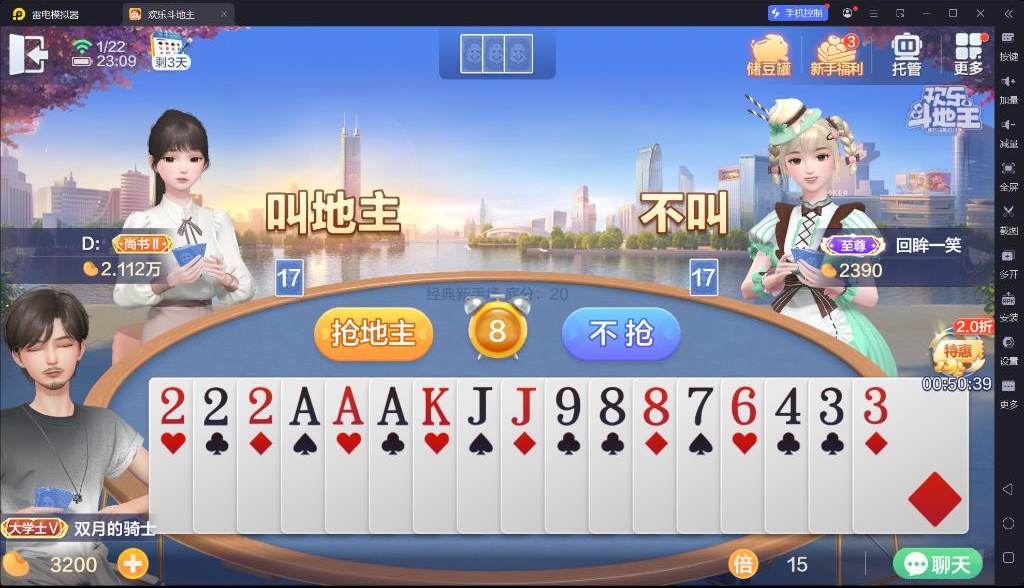A: (286, 382, 322, 428), (374, 382, 409, 428), (331, 382, 366, 428)
J: (461, 383, 495, 428), (507, 382, 539, 428)
K: (419, 382, 452, 428)
eight: (638, 384, 672, 428), (595, 383, 628, 428)
four: (771, 384, 804, 428)
nine: (551, 382, 583, 428)
seven: (683, 383, 715, 429)
six: (727, 384, 759, 427)
three: (861, 384, 892, 426), (816, 384, 845, 427)
two: (200, 381, 233, 427), (244, 382, 276, 426), (157, 383, 189, 426)
